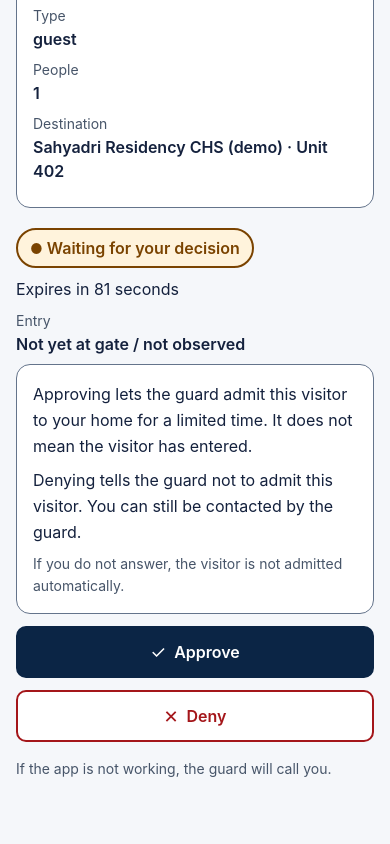
Test: approval decision screen › deny shows Denied and no permission
The width and height of the screenshot is (390, 844).
(page scrolled)
Click the button "✕ Deny". click: x=195, y=716
box: [16, 690, 374, 742]
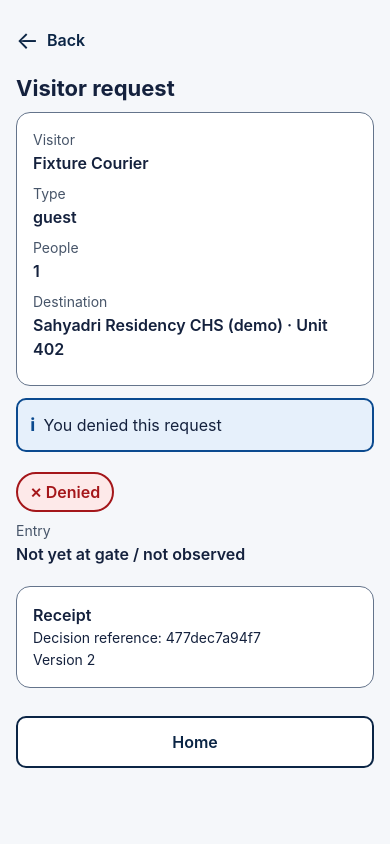
Check: the element with test id "approval-closed" is shown, box [16, 398, 374, 768]
Check: the element labelled "Denied" is shown, box [16, 472, 114, 512]
